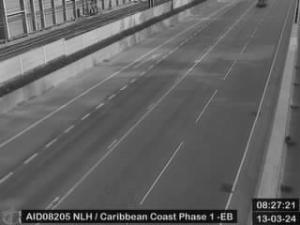vehicle: (257, 0, 265, 6)
